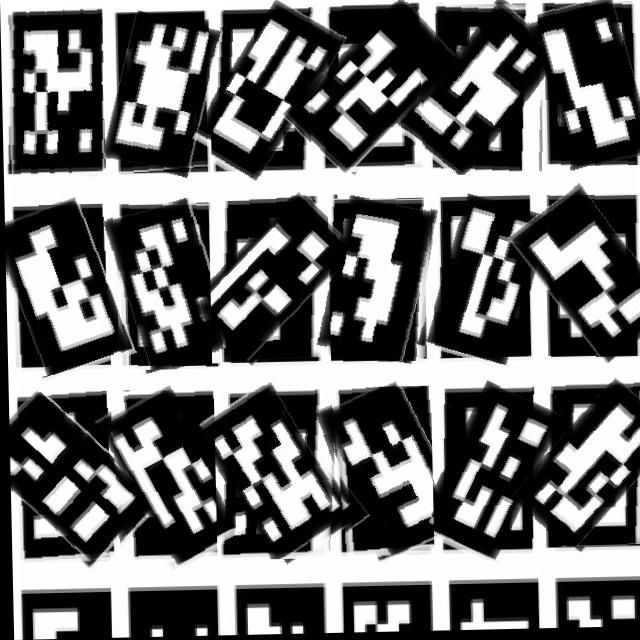aruco: (308, 4, 446, 176), (419, 1, 548, 178), (208, 3, 333, 184), (212, 385, 339, 563), (207, 196, 340, 364), (108, 390, 231, 570), (7, 391, 131, 567), (429, 387, 551, 564), (4, 201, 118, 377), (525, 189, 640, 361), (329, 388, 443, 561), (110, 201, 223, 371), (431, 200, 542, 369), (3, 6, 105, 188), (530, 385, 640, 551), (107, 14, 218, 176), (327, 199, 434, 364), (537, 0, 640, 170)
